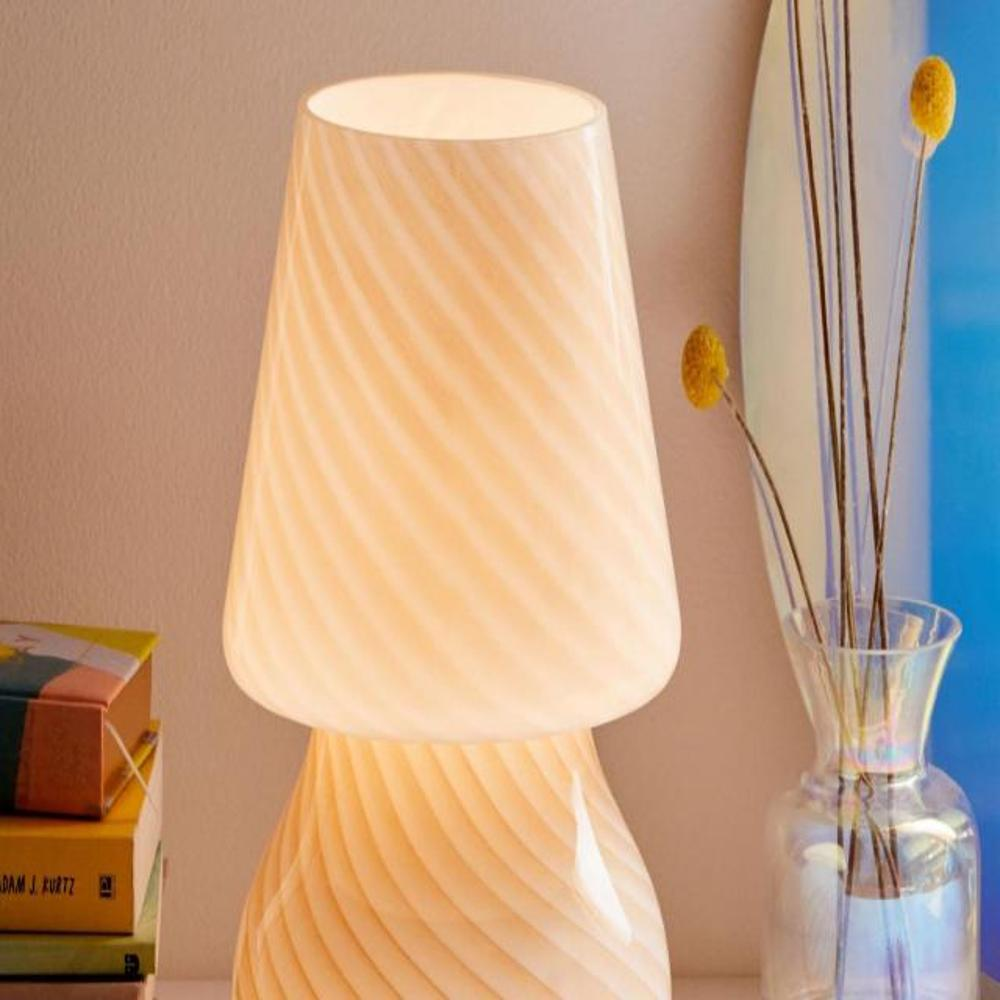shelf: (232, 55, 676, 991)
